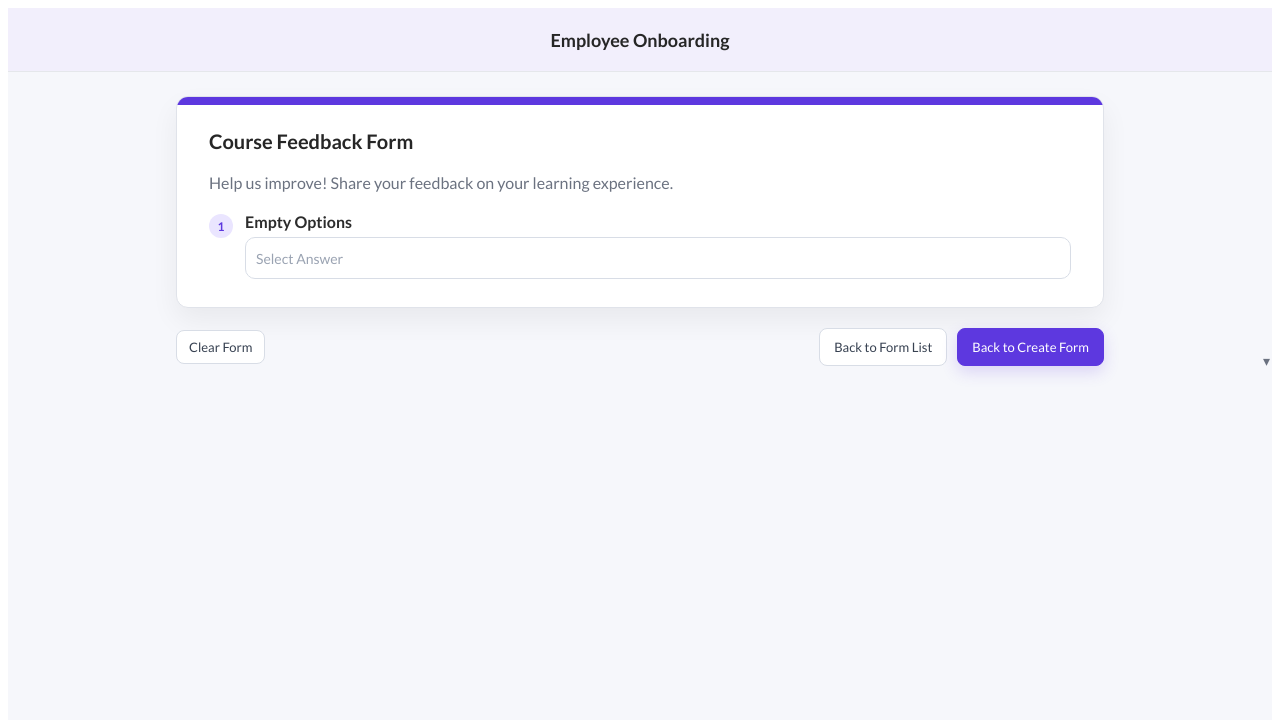
Test: handles empty options in MultiSelect
Open the multiselect
Click the element showing "Select Answer ▾".
click(300, 258)  # box [256,250,343,266]
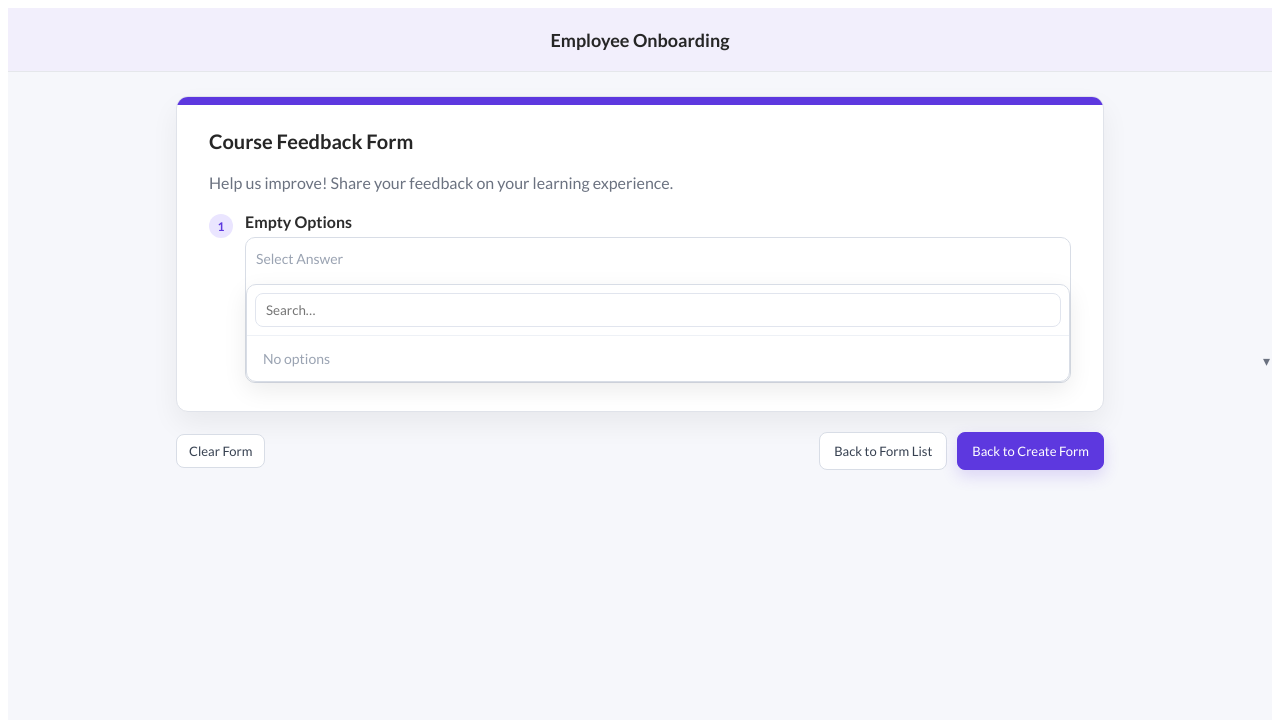
Expected: the text "No options" is shown, [253,342,1063,375]
